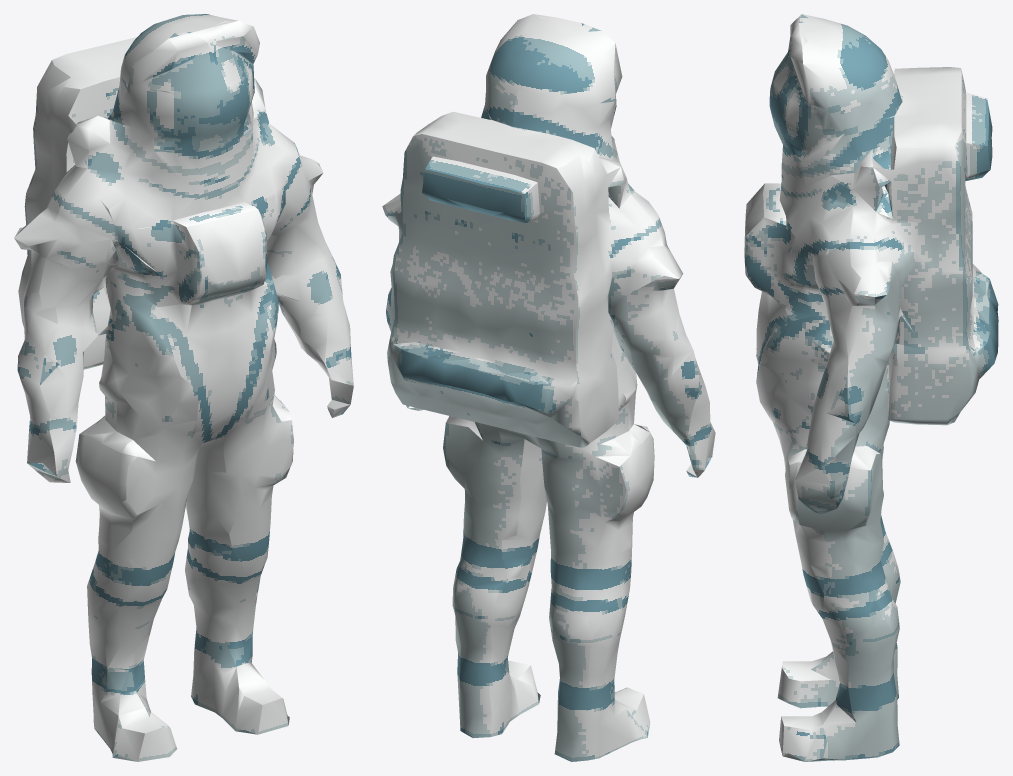
The model's file is astronaut.glb.
3 views of the same model, side by side, from view 1: azimuth 30°, elevation 25°; view 2: azimuth 150°, elevation 25°; view 3: azimuth 270°, elevation 25° (orthographic). The views are drawn at different scales.
Parts seen in each view (by area): view 1: mesh; view 2: mesh; view 3: mesh.
Part boxes in pixels (x1,y1,x2,y2): mesh: [14, 14, 353, 761]; mesh: [382, 14, 715, 761]; mesh: [744, 14, 998, 761].
Bounding box in the file's own units: 0.7545 × 1.59 × 0.5268.
Materials: 1 (1 with a texture image).
